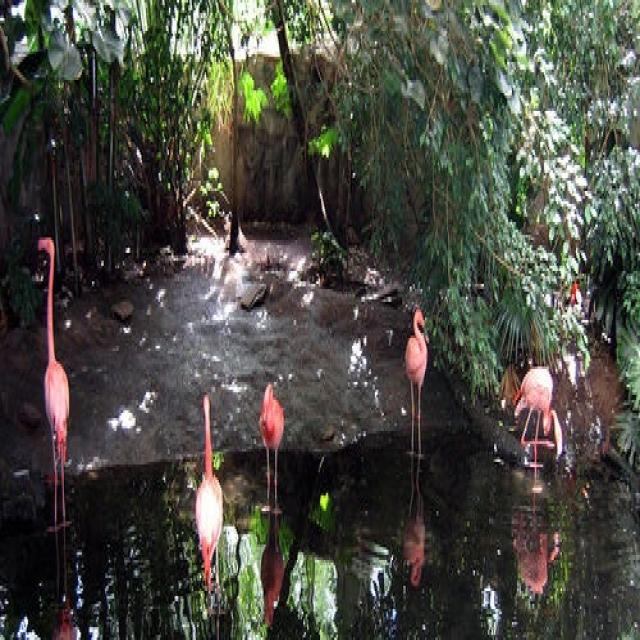bird: (32, 232, 77, 534), (193, 387, 226, 609), (516, 361, 566, 498), (399, 305, 432, 472), (258, 382, 286, 521)
